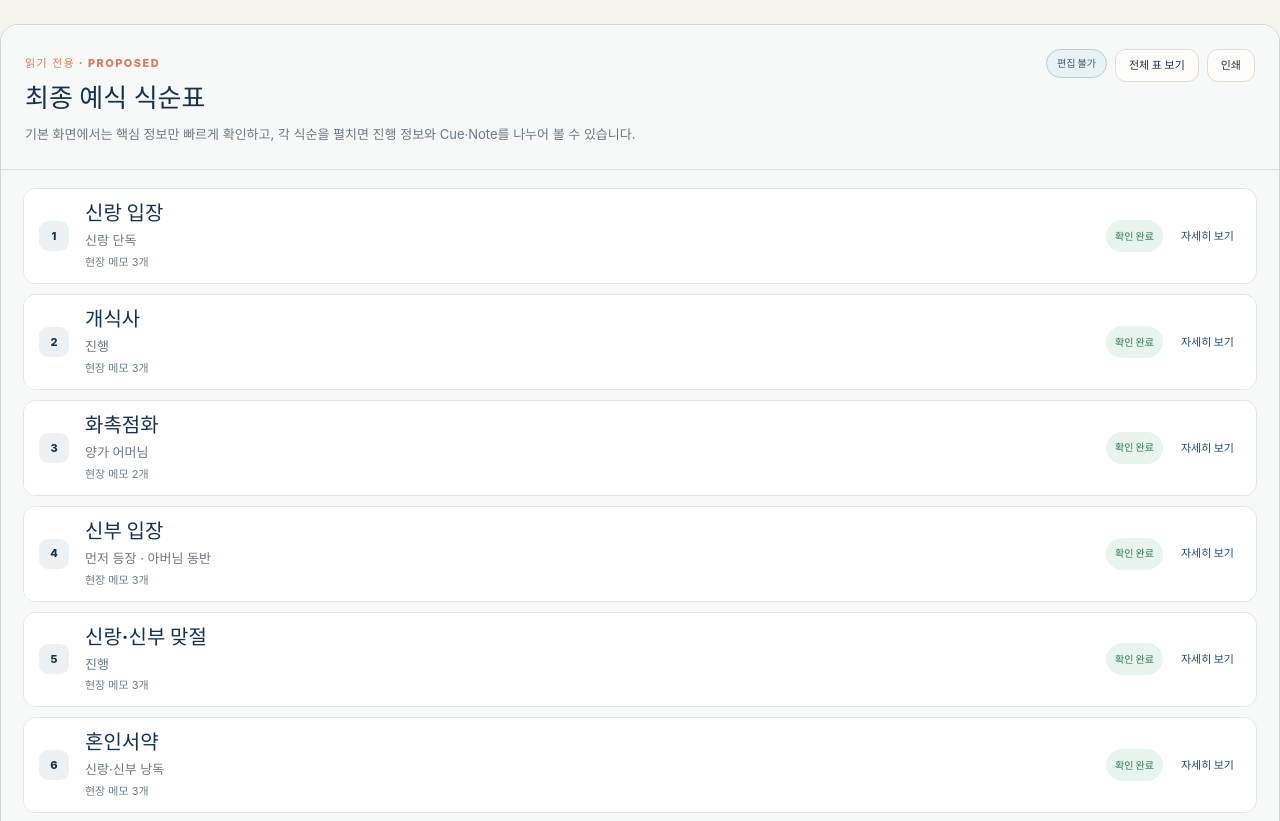
Test case: FinalCeremonySheet › 실제 order와 안정 ID를 기준으로 식순을 표시한다
The image size is (1280, 821).
Click the button "전체 표 보기" at coordinates (1157, 65), box [1115, 49, 1199, 82]
(page scrolled)
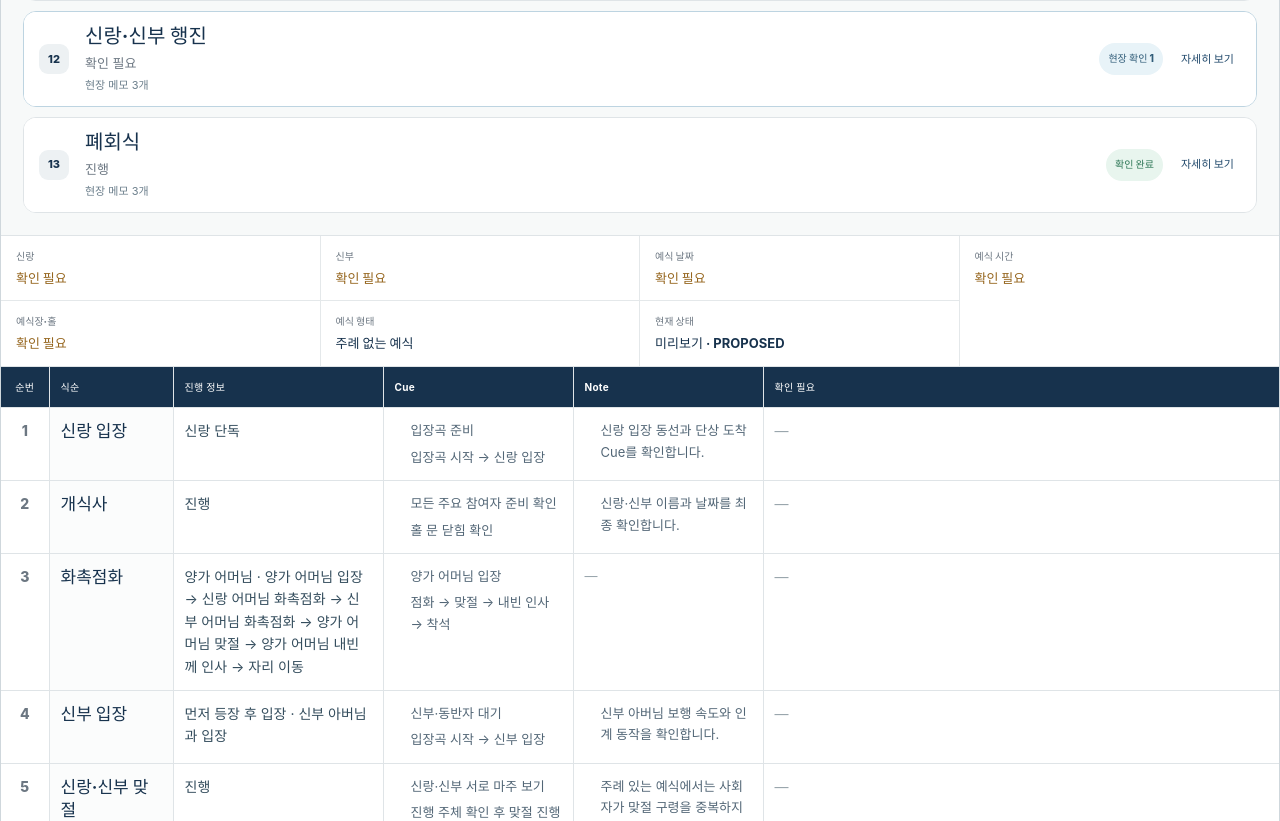
Check: the column heading "신랑 입장" is shown, box [49, 408, 173, 481]
